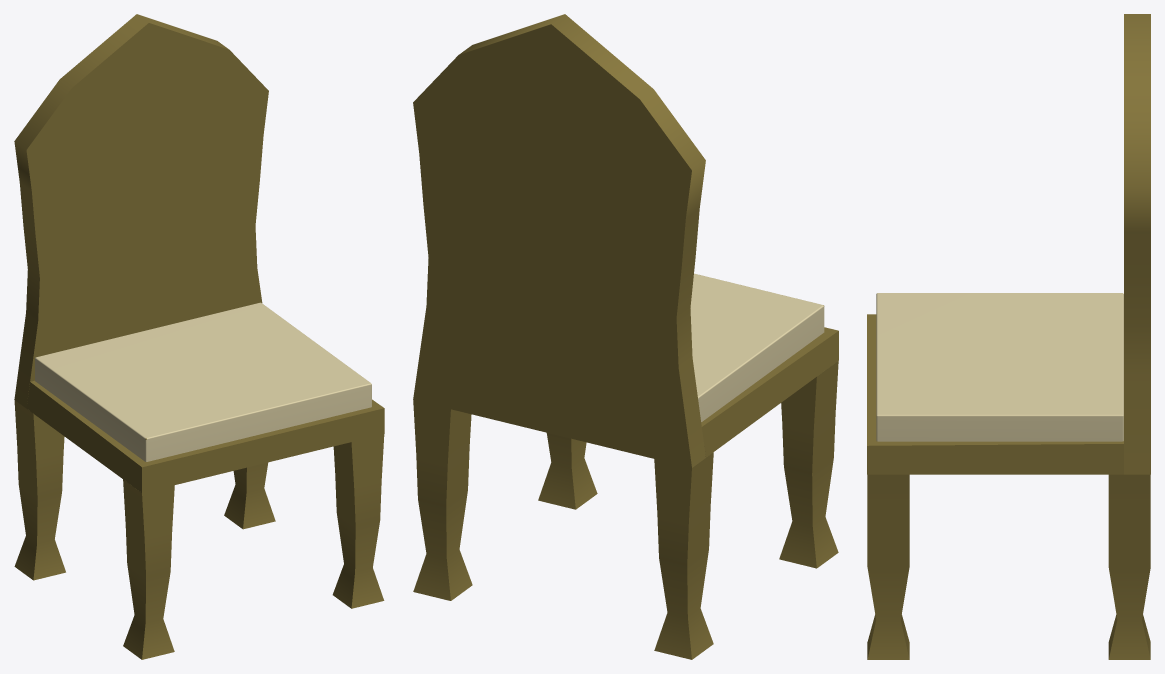
The model's file is RoomChair.fbx.
The picture shows the model from 3 angles, left to right: view 1: azimuth 30°, elevation 25°; view 2: azimuth 150°, elevation 25°; view 3: azimuth 270°, elevation 25°; orthographic projection. The views are drawn at different scales.
Visible parts, largest first — view 1: pCube92; view 2: pCube92; view 3: pCube92.
Part boxes in pixels (<box>): pCube92: <box>14,14,384,659</box>; pCube92: <box>413,14,838,659</box>; pCube92: <box>867,14,1150,659</box>.
Size of the model in its own units: 2.04 by 4.2 by 1.86.
